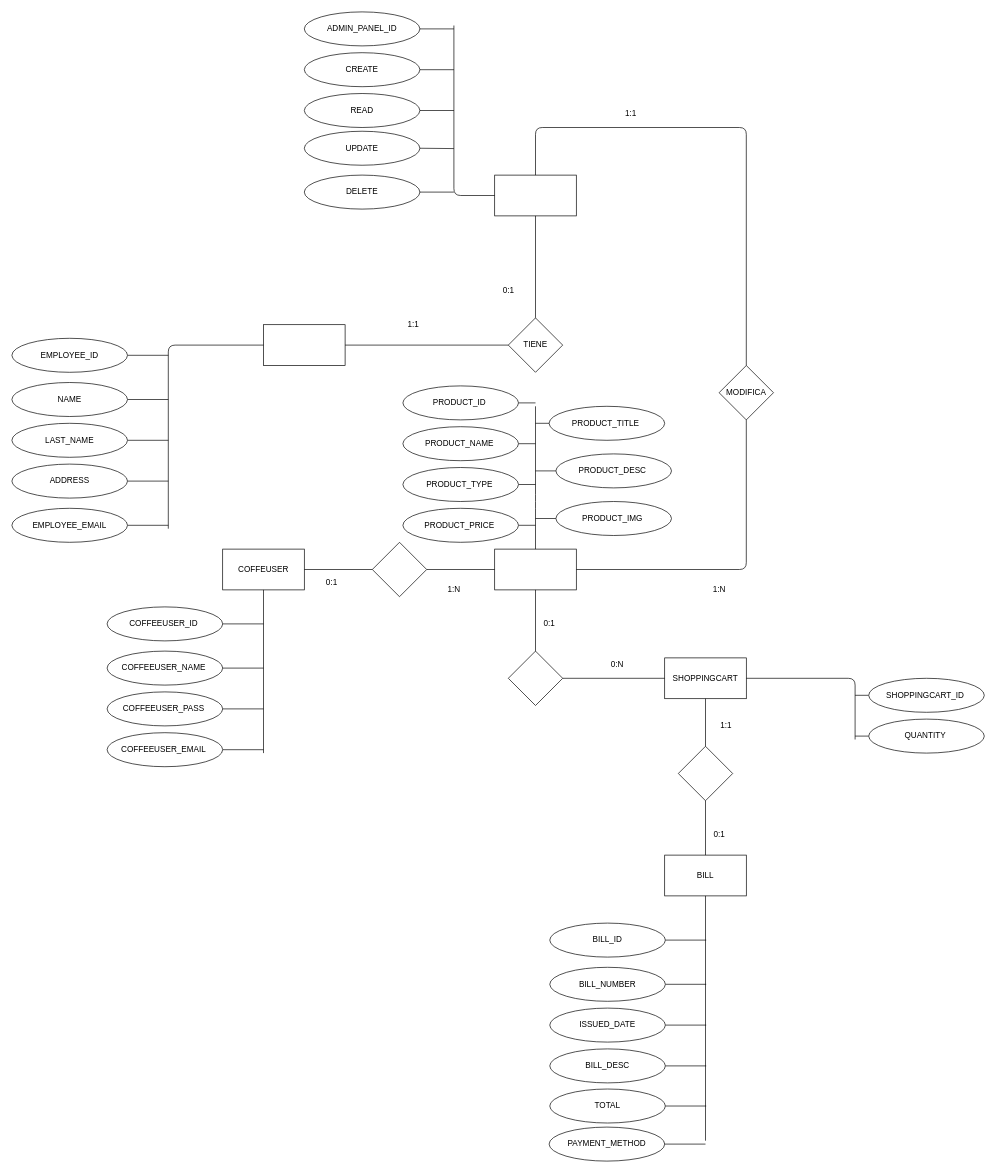
The diagram is 996 pixels wide and 1173 high, and some of its shapes have lost their labels. The centre of each missing label's shape, as x and y in pixels:
ADMIN_PANEL: point 535,195
COMPRAN: point 399,569
EMPLOYEE: point 304,345
GENERA: point 705,773
GUARDAN: point 535,678
PRODUCT: point 535,569
